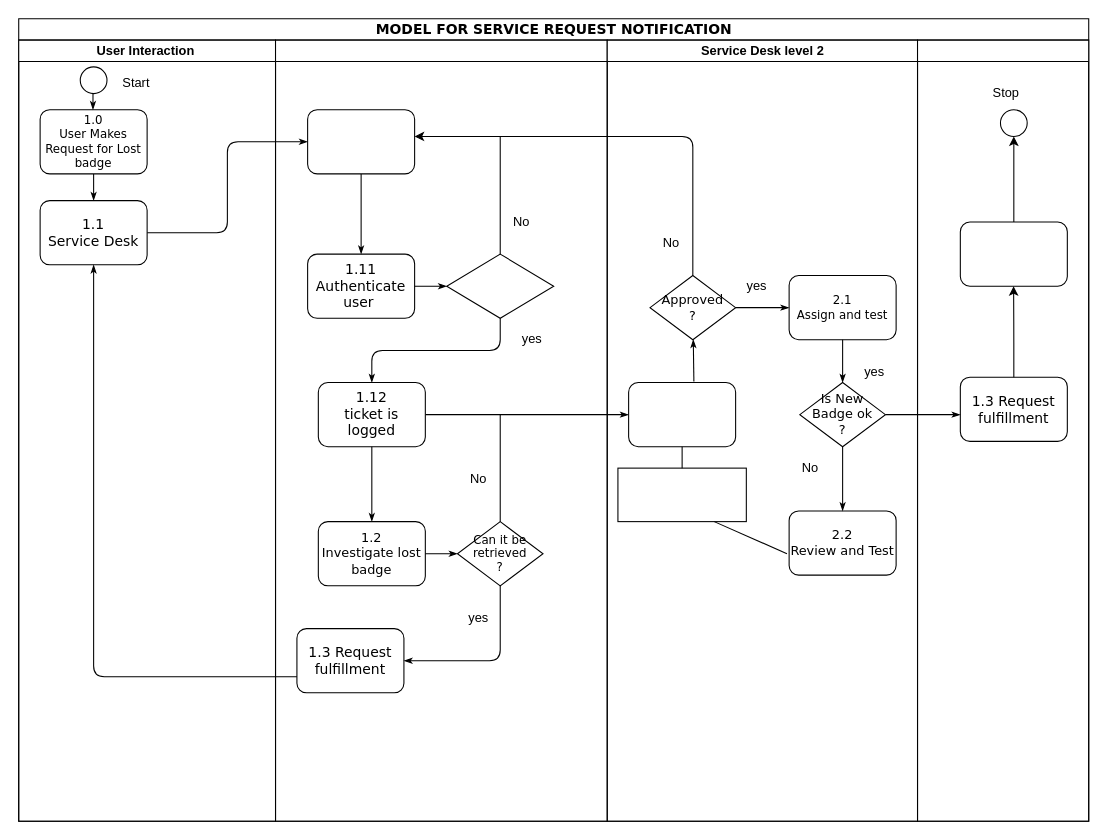
Some shapes in this 1107 by 840 pixel diagram are drawn without their labels. The box of each missing label's shape, as (x1, y1, x2, y2) in pixels:
1.1 Service Request Management: (307, 109, 415, 174)
2.0 Seek Business Approval: (628, 381, 736, 447)
3.0 Close ticket: (959, 221, 1067, 286)
Change Management: (617, 467, 746, 522)
Is he a valid user?: (446, 253, 554, 318)
Service Desk level 1: (274, 39, 607, 821)
Terminate Service: (916, 39, 1089, 821)
